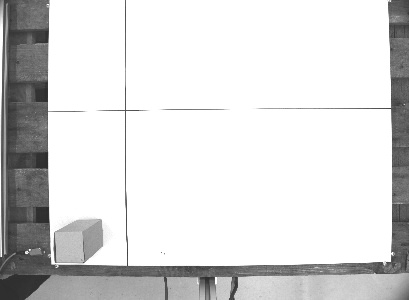b2: (51, 216, 107, 265)
